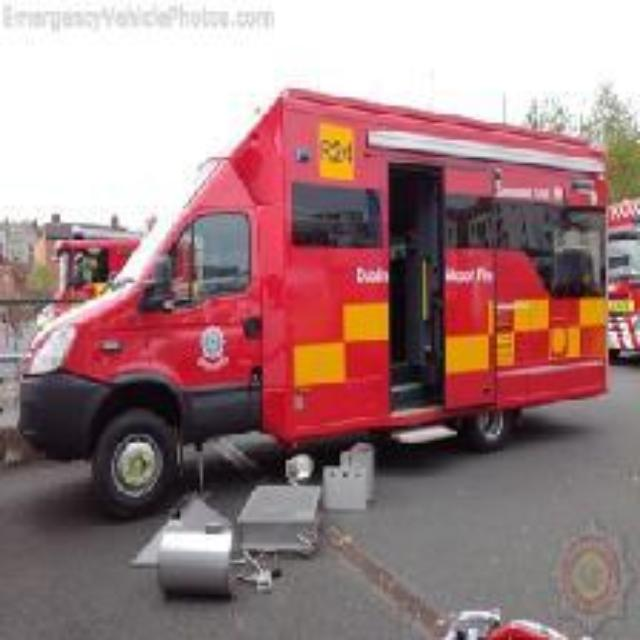emergency: (33, 91, 607, 496)
